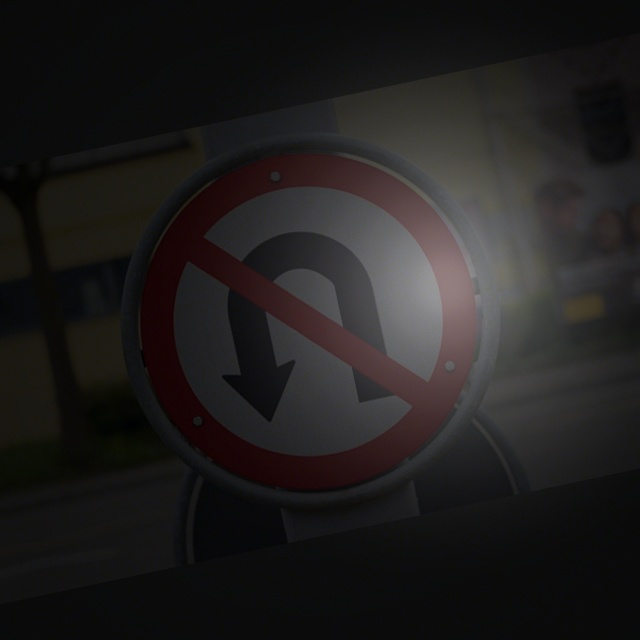U_Turn_Prohibited: (92, 104, 534, 542)
